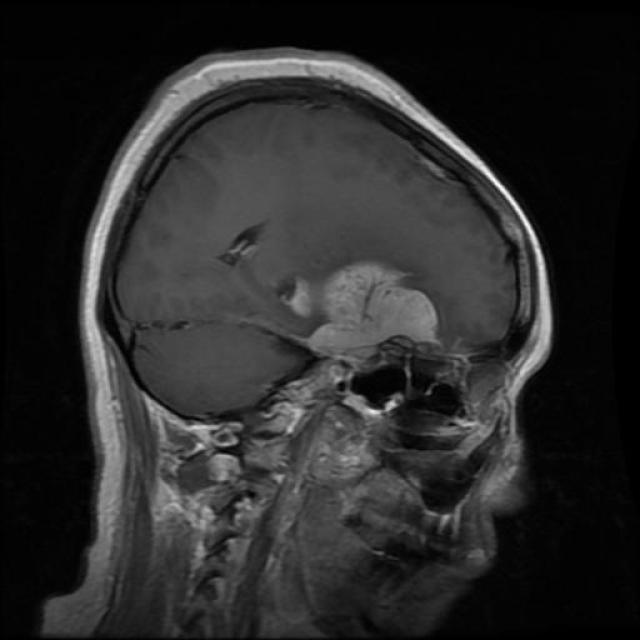meningioma: (310, 262, 438, 354)
